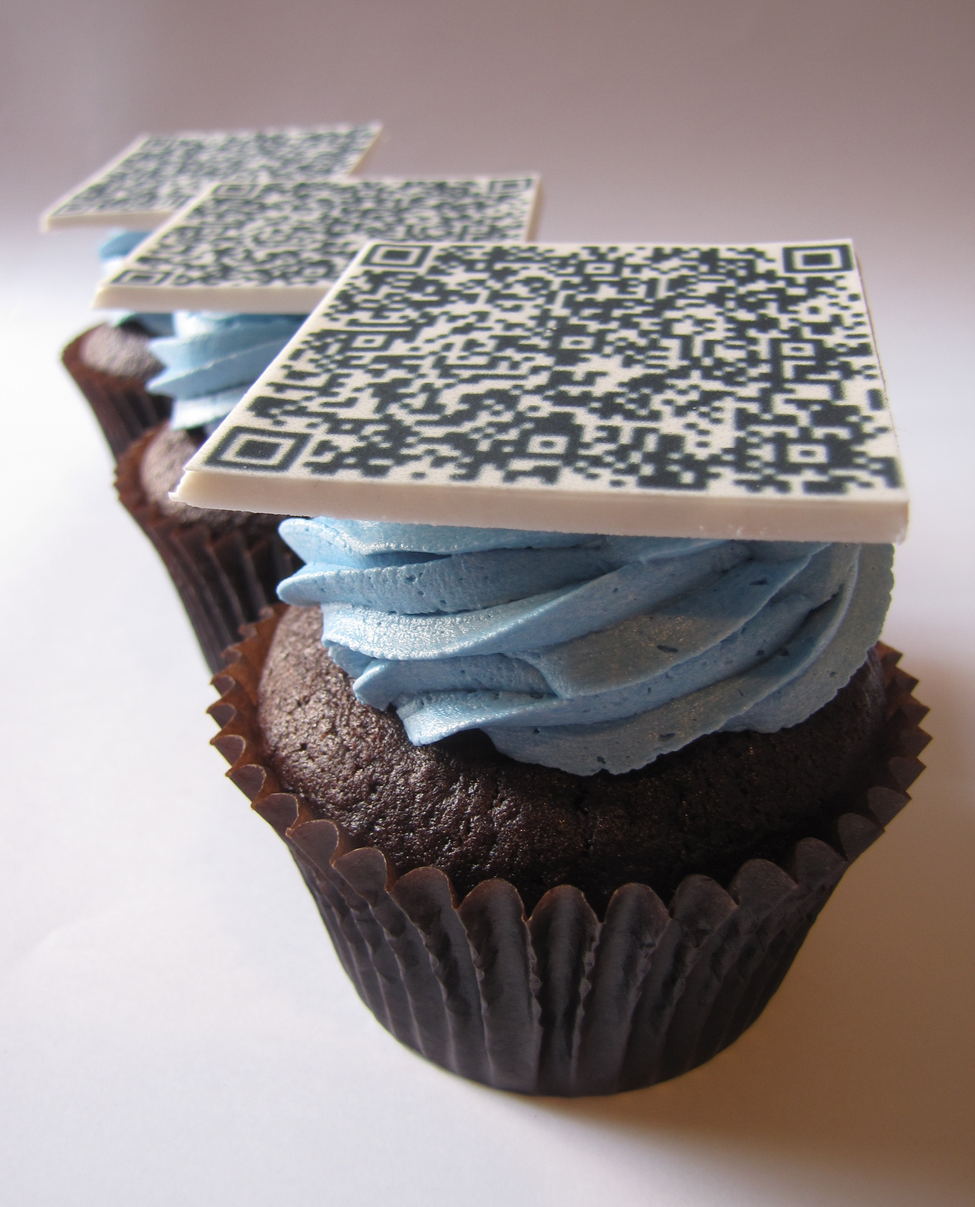QR-CODE: (202, 243, 903, 494), (108, 178, 531, 287), (50, 128, 379, 217)
